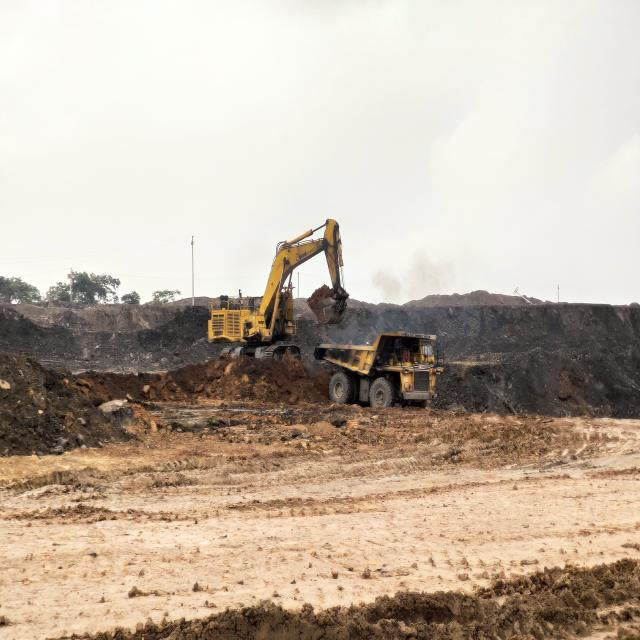dump_truck: (308, 329, 443, 411)
excavator: (206, 218, 352, 360)
